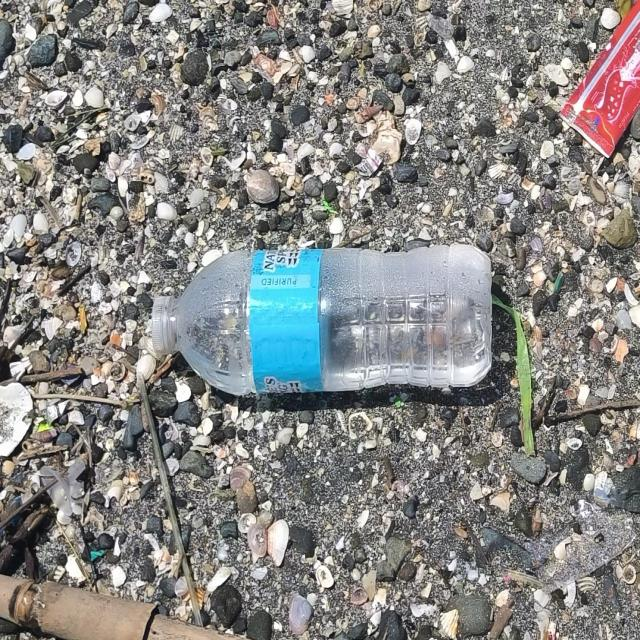plastic_waste: (152, 245, 494, 397), (135, 370, 204, 628), (558, 5, 640, 163)
